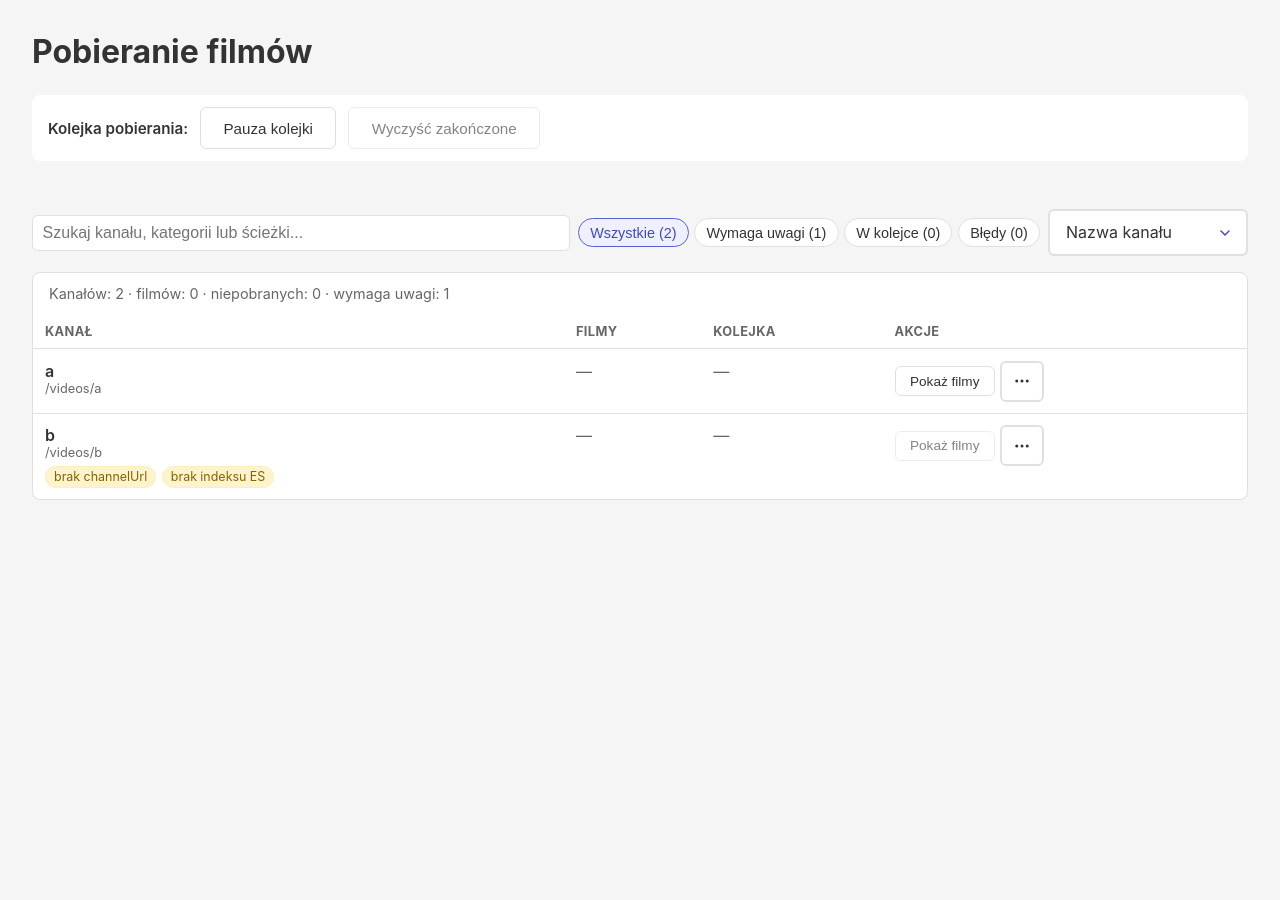
StatusPage › shows the jobs a row action queued in the section it left open
The width and height of the screenshot is (1280, 900).
Click the button "Pokaż filmy" in the row of "/videos/a": (945, 381) [895,366,995,396]
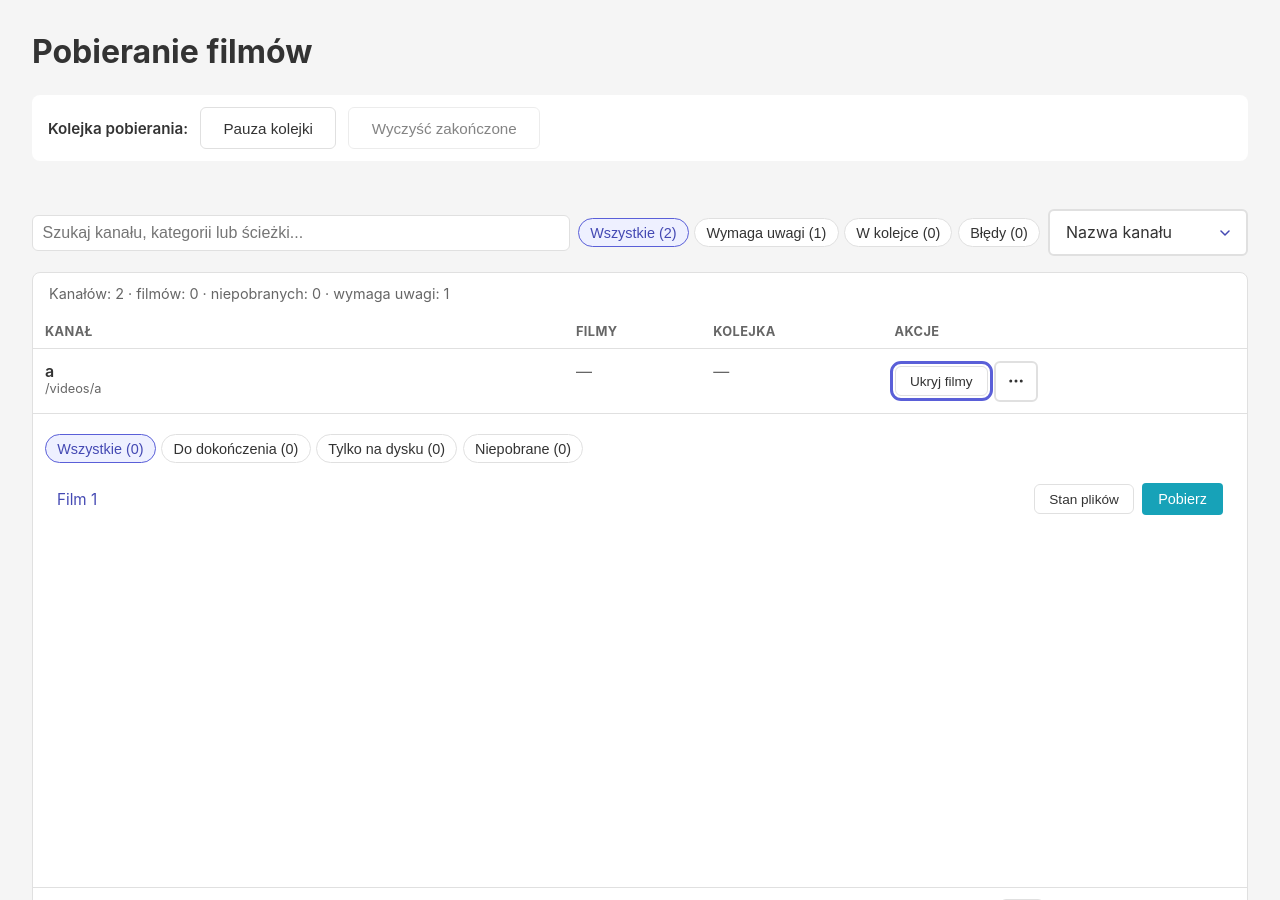
Expected: the link "Film 1" is shown, [57,490,97,509]
Click the button named "Więcej akcji" in the row of "/videos/a": (1016, 381) [994,361,1038,402]
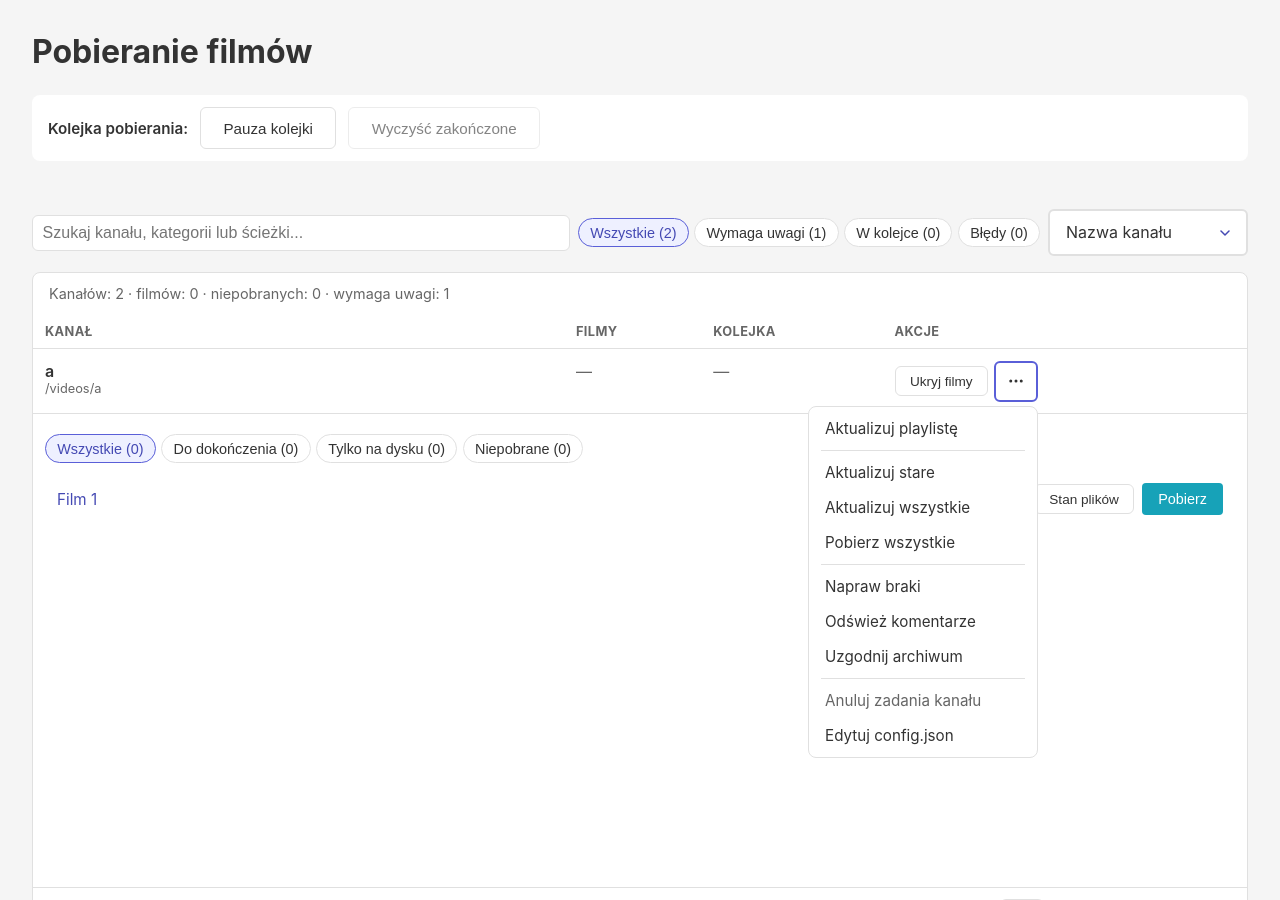
Click the menu item "Pobierz wszystkie": (890, 542) [825,533,955,552]
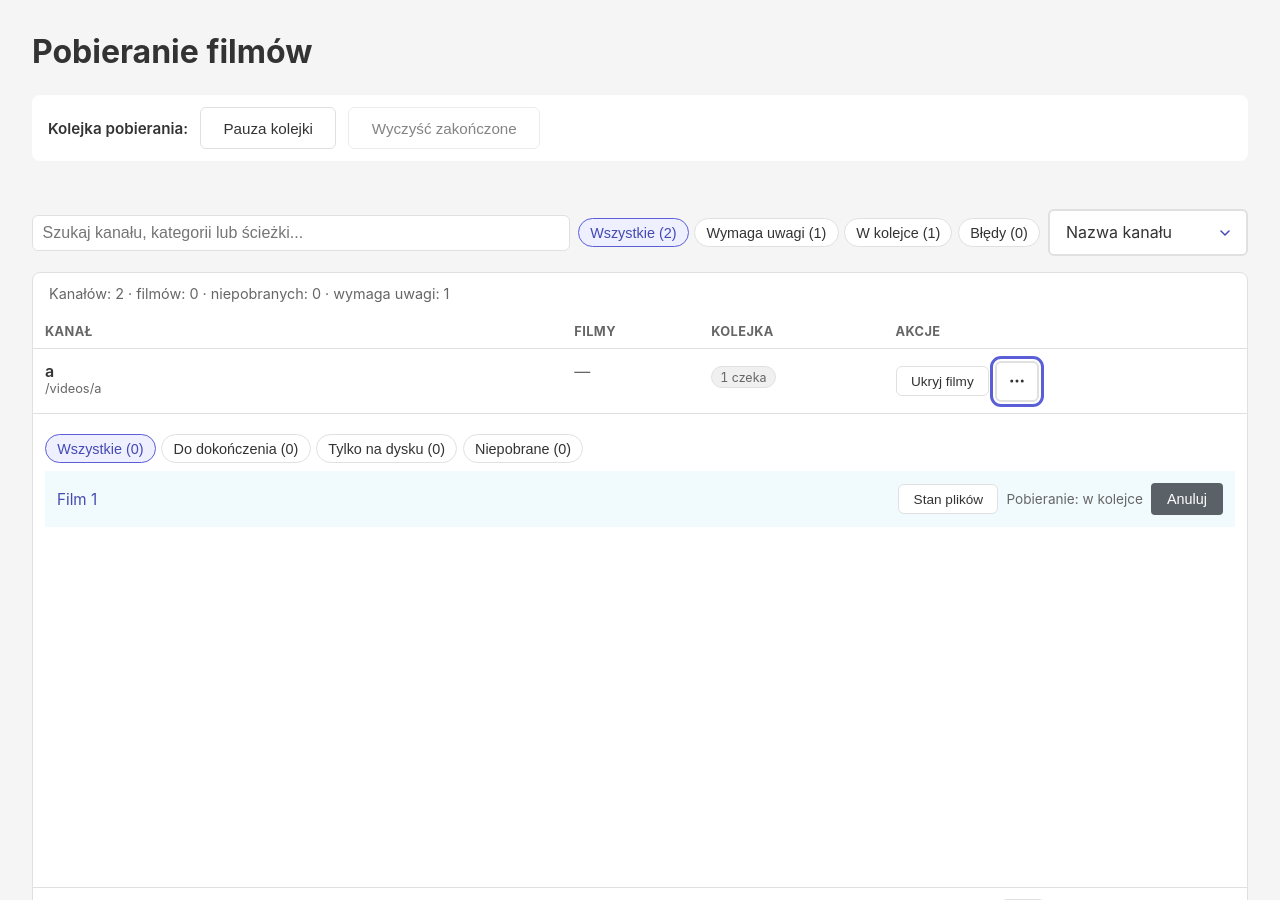
Expected: the text "Pobieranie: w kolejce" is shown, [1006,491,1143,507]
Expected: the text "1 czeka" is shown, [711,366,776,388]
